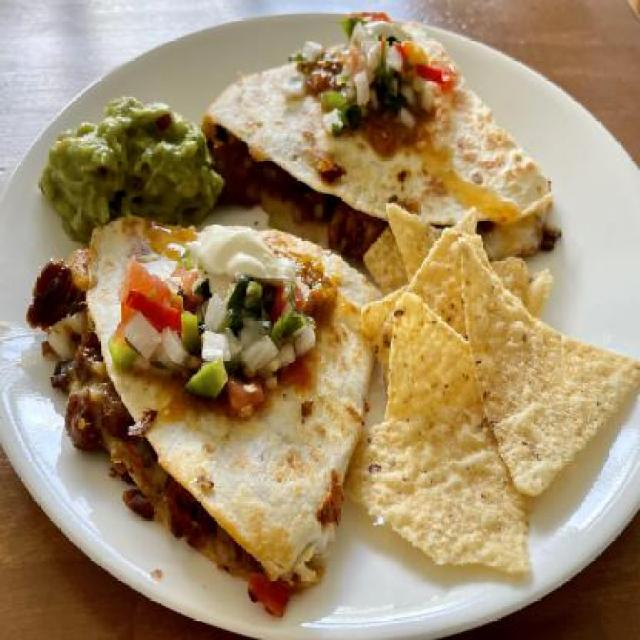chicken quesadilla: (22, 208, 376, 621), (202, 12, 567, 252)
guacamole: (33, 90, 227, 225)
nachos: (364, 209, 638, 585)
